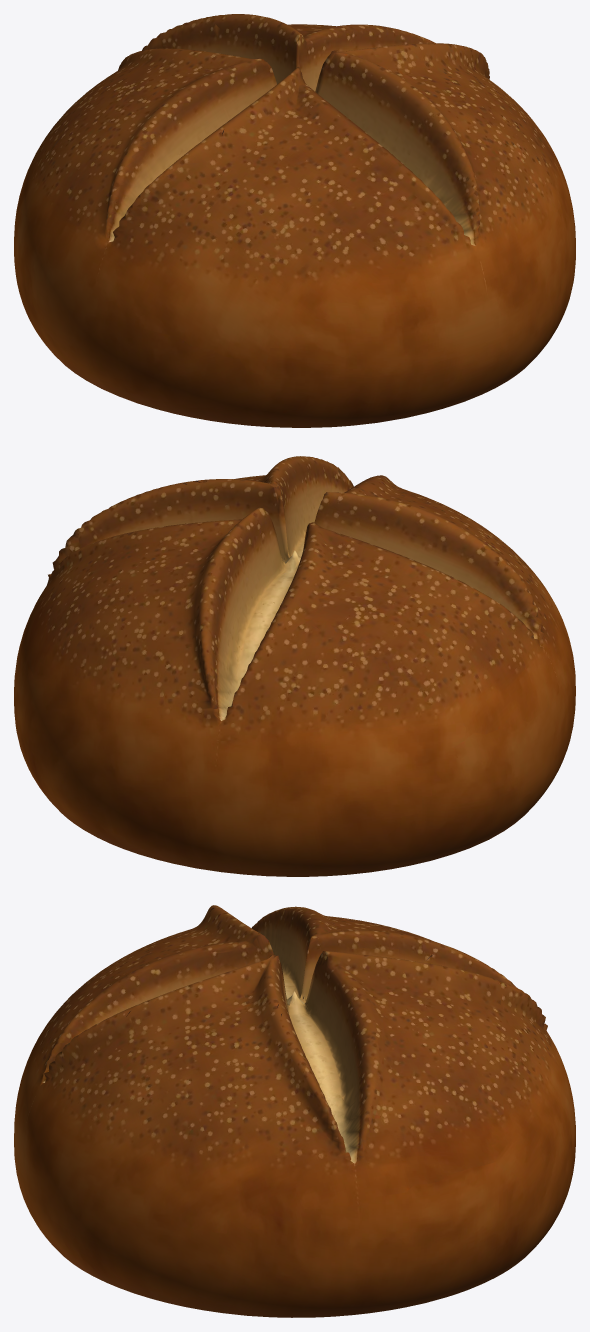
File: campagne--flaxseed-seed.glb
3 renders of one model, top to bottom at view 1: azimuth 30°, elevation 25°; view 2: azimuth 150°, elevation 25°; view 3: azimuth 270°, elevation 25°, orthographic.
Visible parts, largest first — view 1: campagne_flaxseed-seed; view 2: campagne_flaxseed-seed; view 3: campagne_flaxseed-seed.
Part boxes in pixels (x1,y1,x2,y2): campagne_flaxseed-seed: (14,14,575,427); campagne_flaxseed-seed: (14,456,575,876); campagne_flaxseed-seed: (14,905,575,1317).
Size of the model in its own units: 0.9987 by 0.5303 by 0.9991.
Materials: 1 (1 with a texture image).
